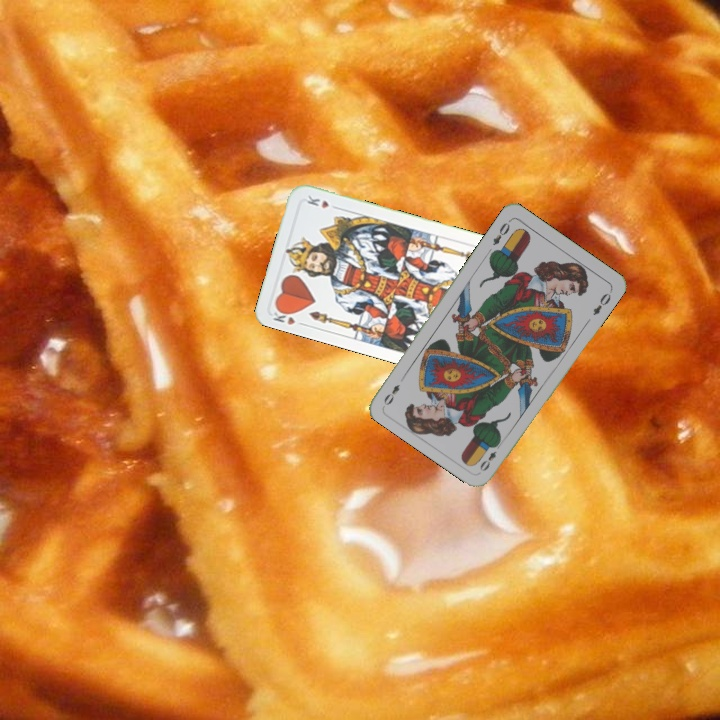EO: (476, 438, 504, 474), (489, 216, 513, 248)
HK: (269, 304, 308, 329)
